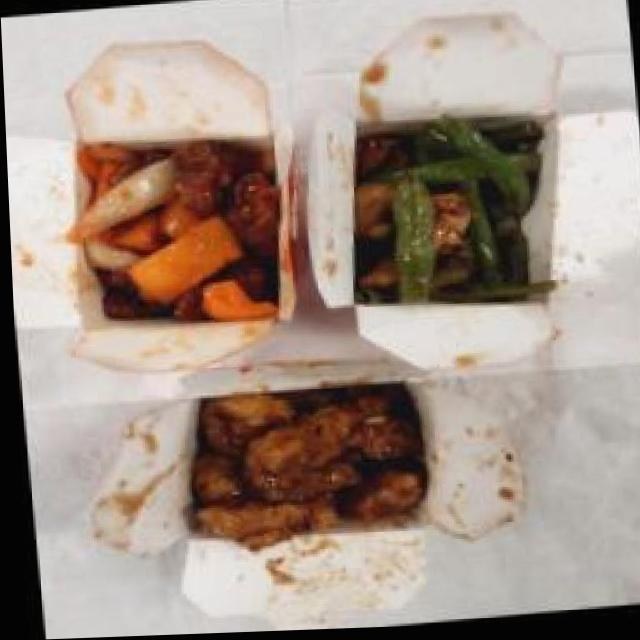Beijing Beef: (68, 127, 298, 336)
String Bean Chicken Breast: (336, 107, 562, 323)
The Original Orange Chicken: (174, 376, 429, 553)
